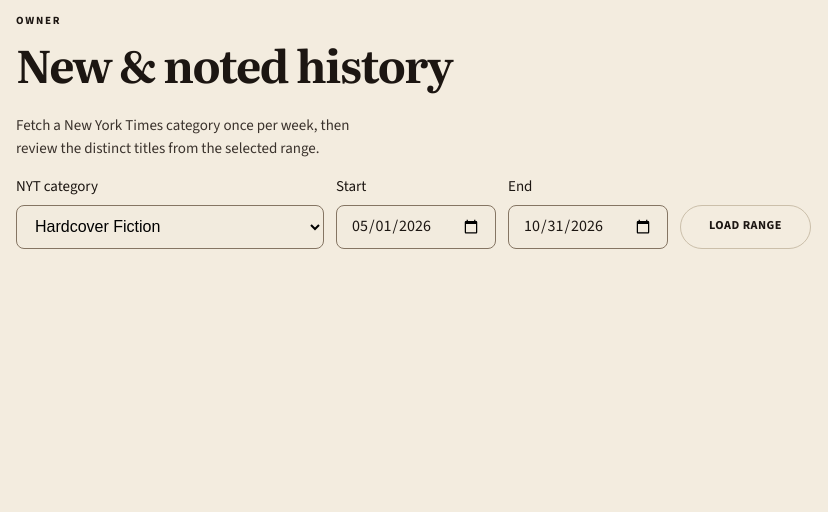
shows Thinking before a deferred range returns and aligns the form row
Click the button "Load range" at {"x": 746, "y": 226}, box [680, 204, 811, 248]
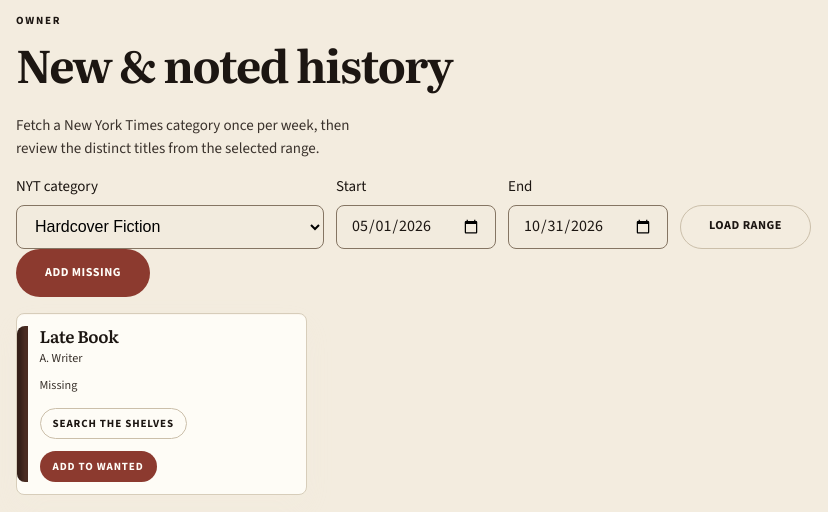
Expected: the date field named "Start date" is shown, [336, 204, 496, 248]
Expected: the heading "Late Book" is shown, [40, 323, 119, 348]
Expected: the button "Add to Wanted" is shown, [40, 451, 157, 482]
